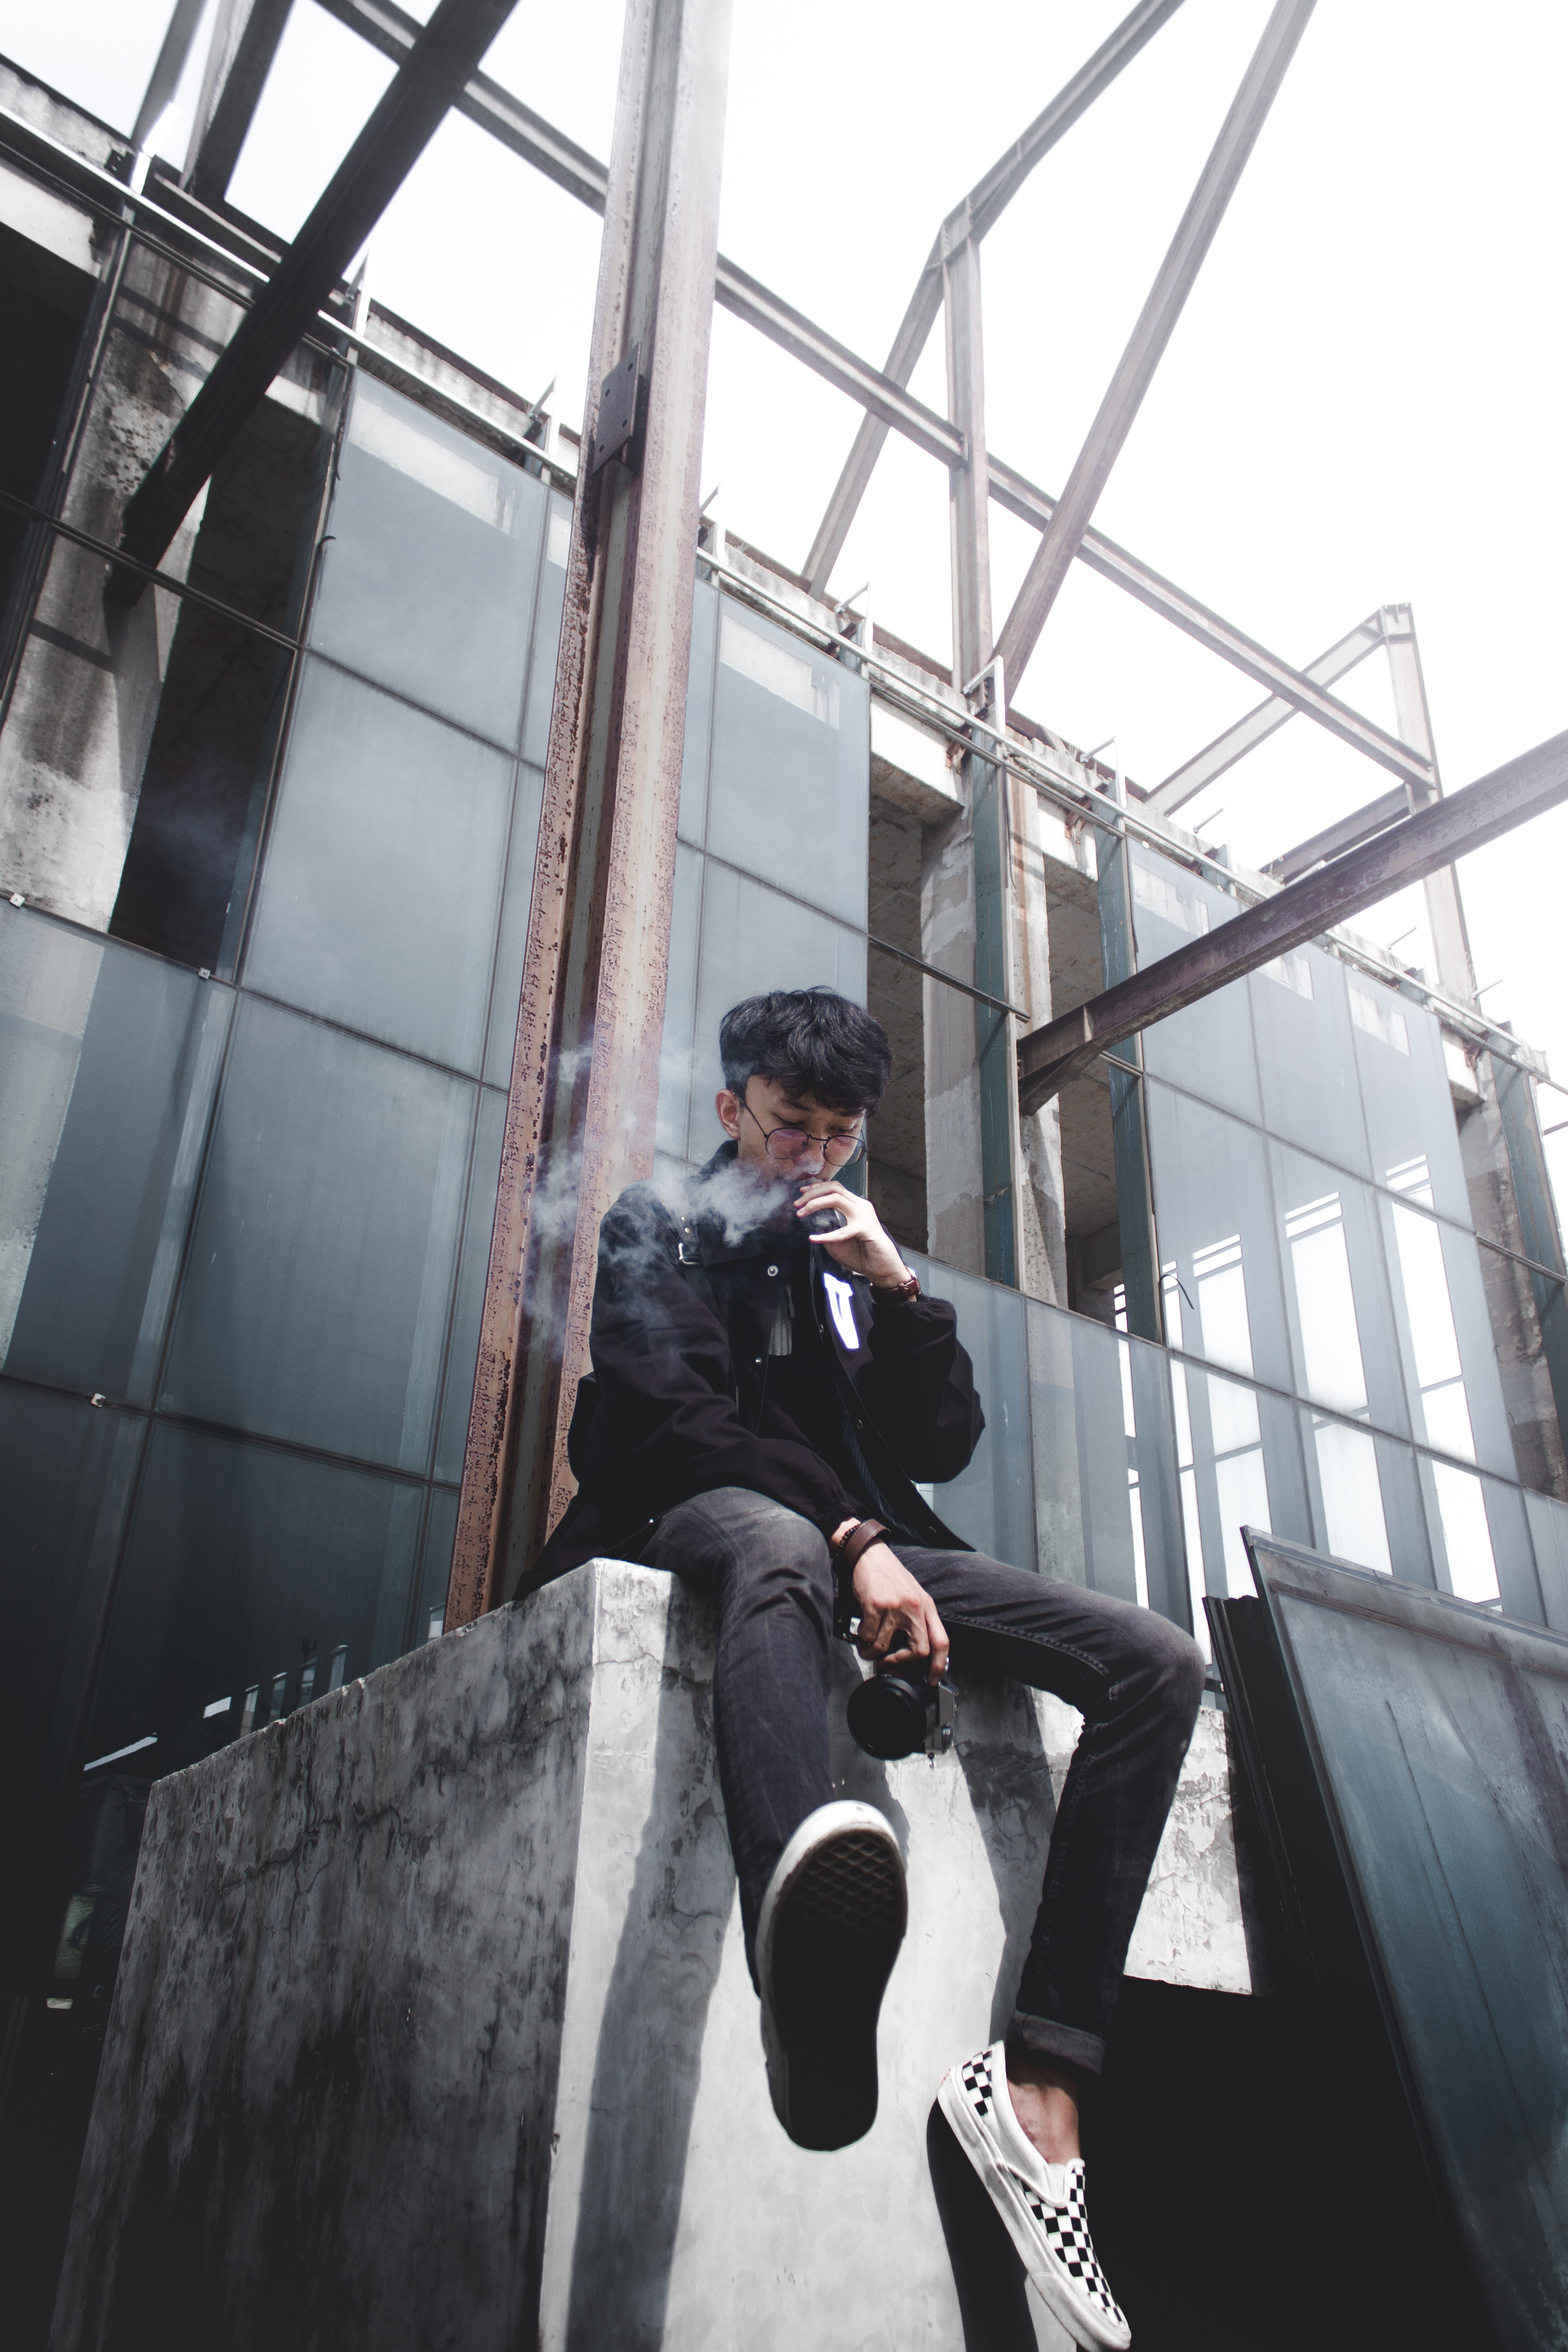cigarette: (789, 1178, 842, 1235)
